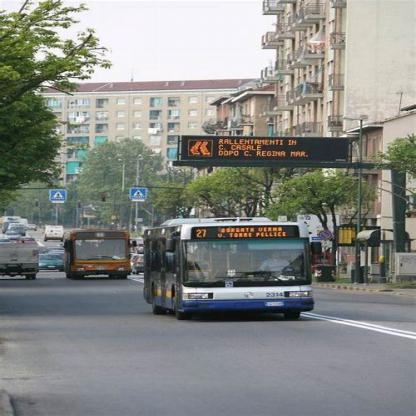bus: (142, 219, 318, 319), (65, 229, 138, 281)
car: (45, 225, 65, 244), (42, 255, 64, 271), (10, 225, 29, 236)
truck: (2, 241, 42, 281)
